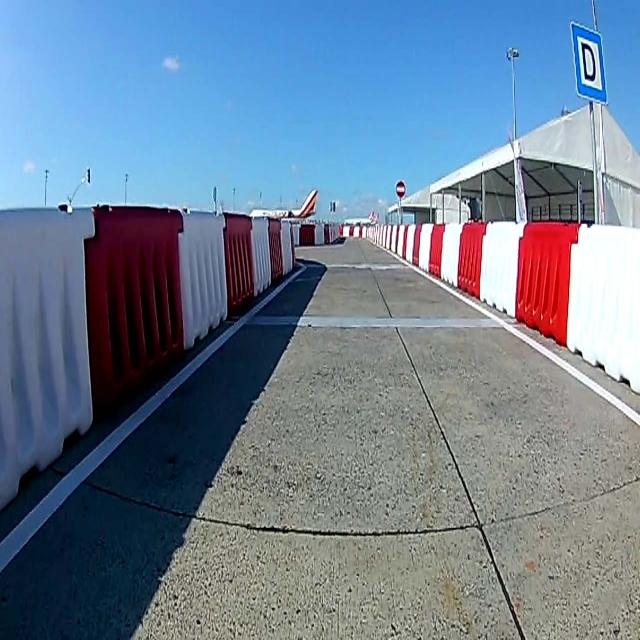durak: (570, 21, 608, 106)
girisyok: (395, 178, 407, 198)
